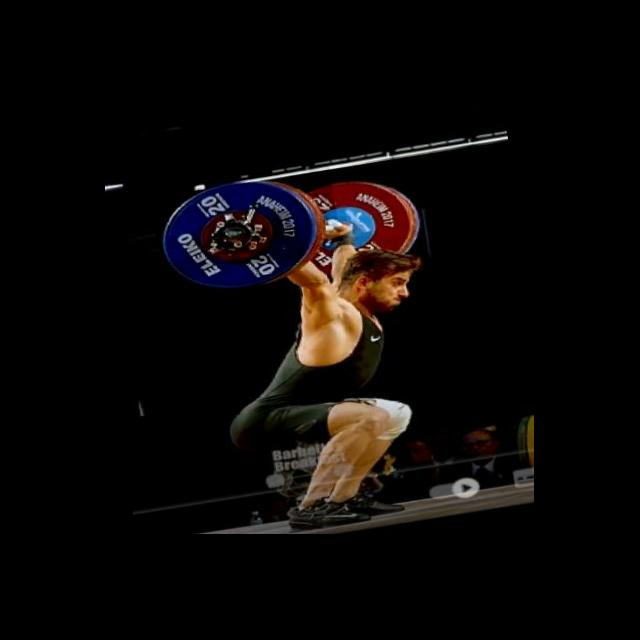barbell: (149, 160, 348, 308)
